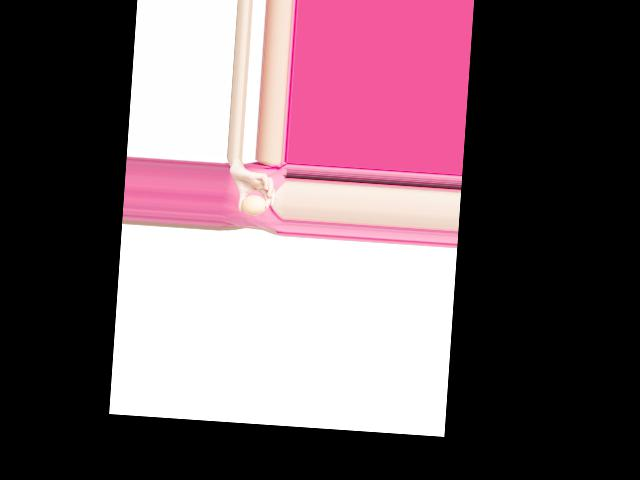egg: (240, 194, 267, 215)
